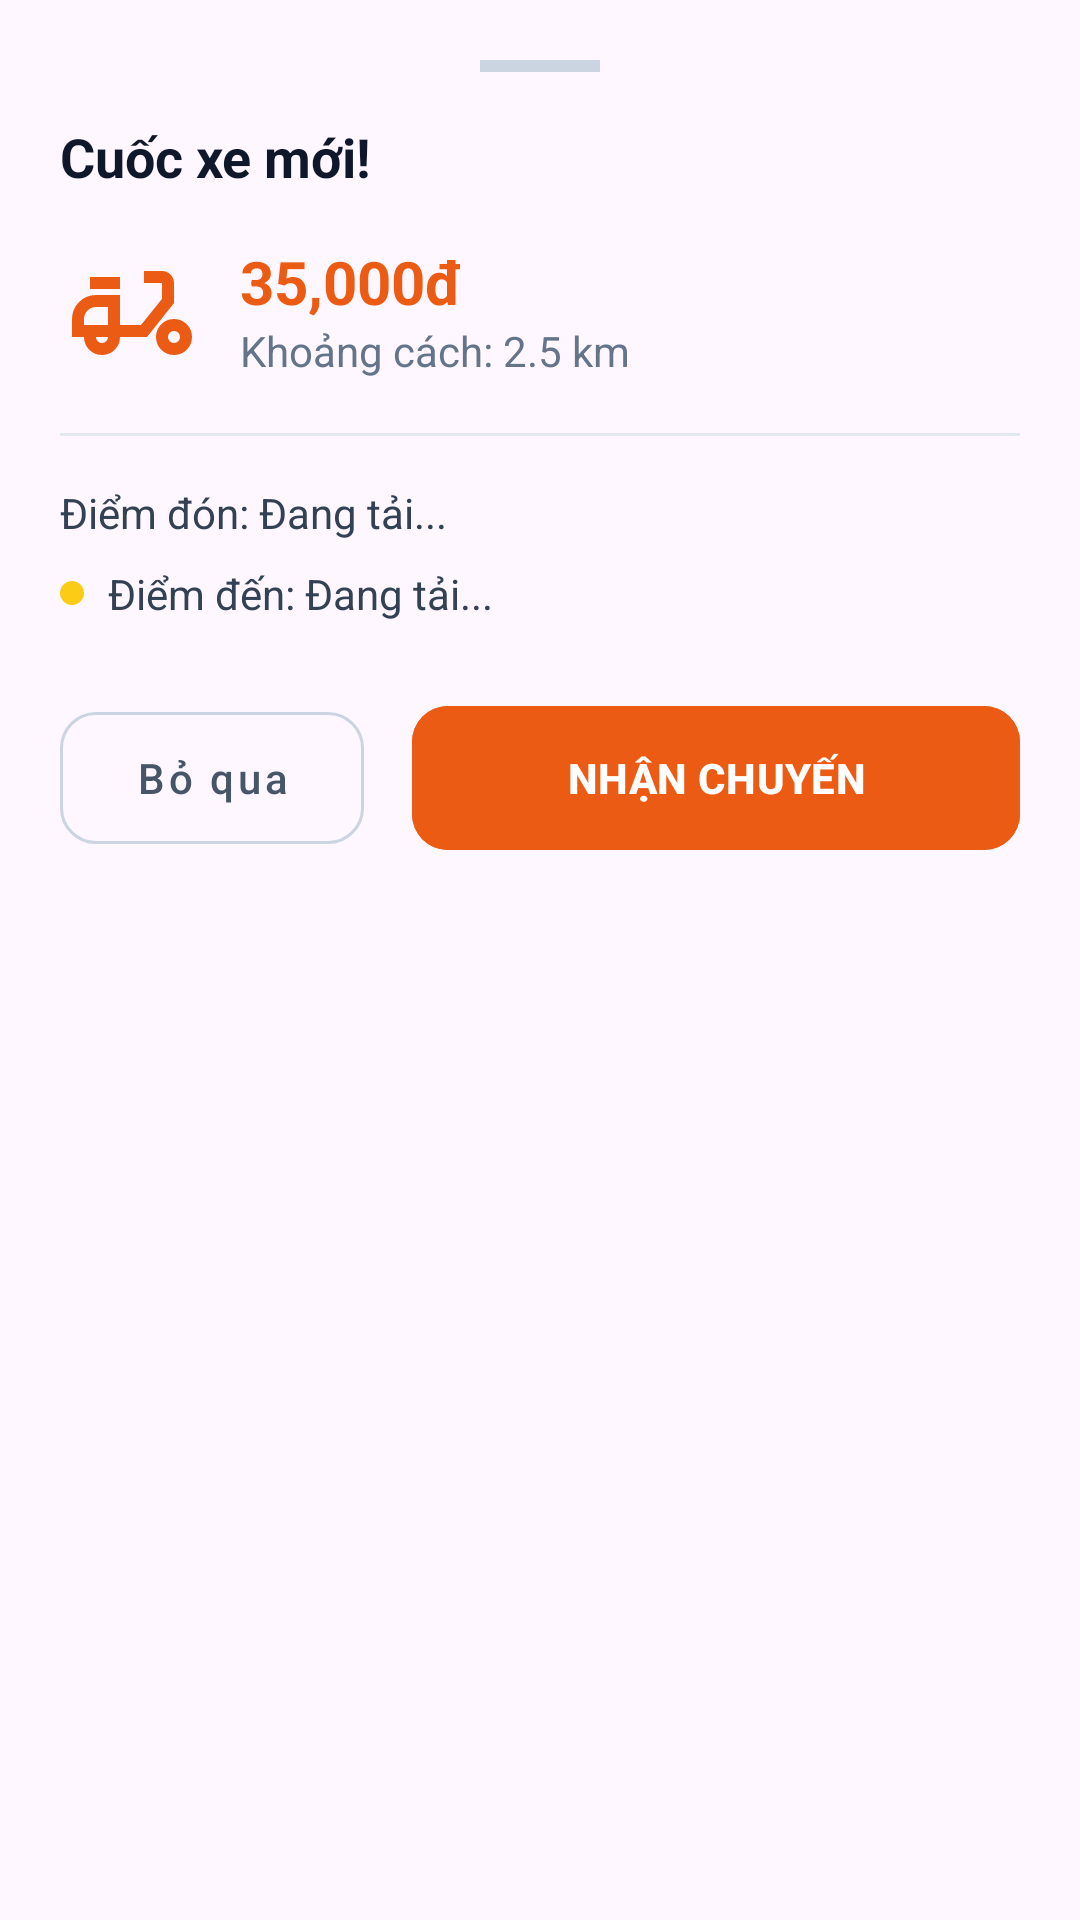

Icon click points for this 1080px x 1920px phone screenshot, format [x,y]:
moped: [132,313]
